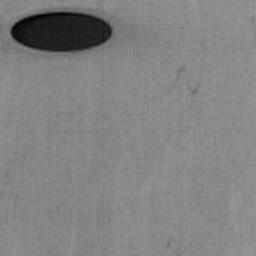Punching: (12, 12, 111, 51)
